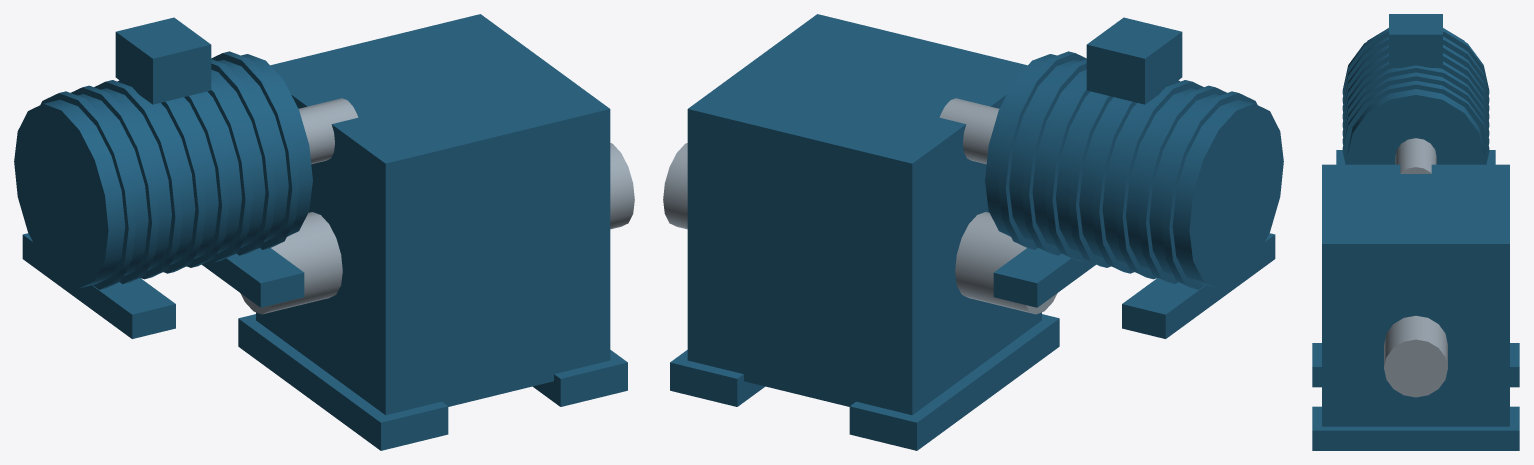
3 renders of one model, left to right at view 1: azimuth 30°, elevation 25°; view 2: azimuth 150°, elevation 25°; view 3: azimuth 270°, elevation 25°, orthographic. The views are drawn at different scales.
Visible parts, largest first — view 1: 减速机（带电机）; view 2: 减速机（带电机）; view 3: 减速机（带电机）.
Boxes of the visible parts, left/top/right/bottom form: 减速机（带电机）: left=14, top=14, right=634, bottom=450; 减速机（带电机）: left=663, top=14, right=1283, bottom=450; 减速机（带电机）: left=1312, top=14, right=1519, bottom=450.
Size of the model in its own units: 1.23 by 0.8428 by 0.55.
